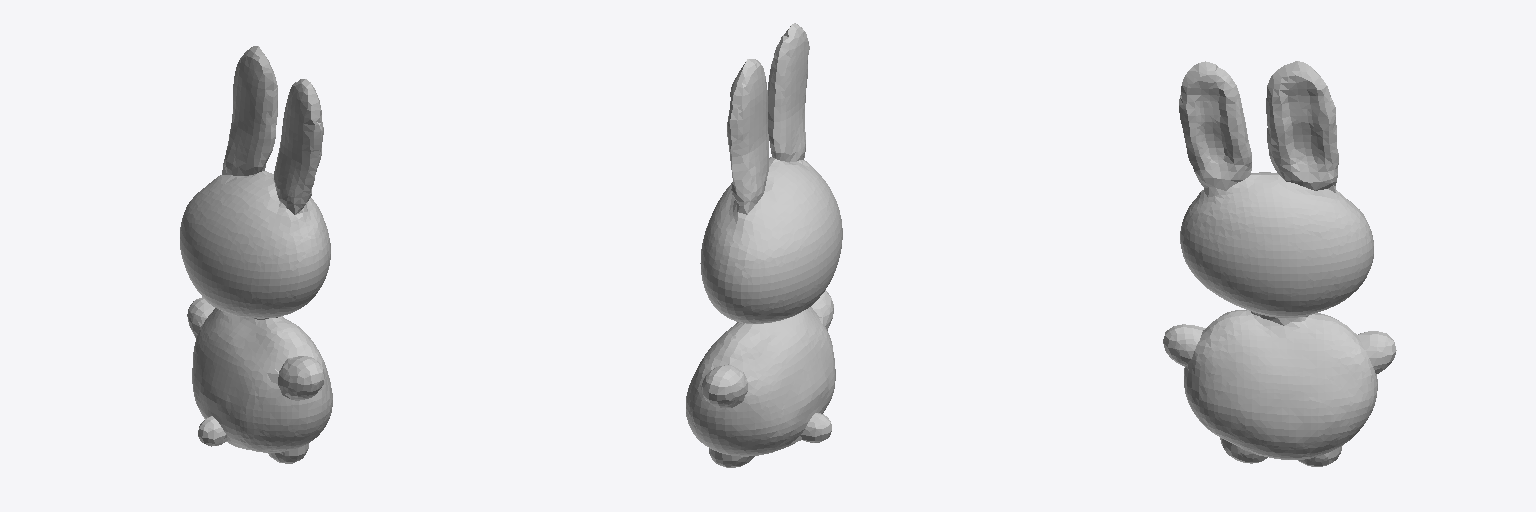
The model's file is rabbit_aug_6.obj.
3 views of the same model, side by side, from view 1: azimuth 30°, elevation 25°; view 2: azimuth 150°, elevation 25°; view 3: azimuth 270°, elevation 25° (orthographic).
Bounding box in the file's own units: 29.19 × 93.85 × 49.4.